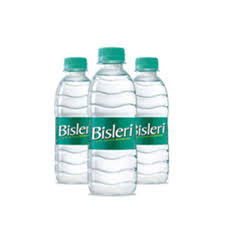Bisleri: (88, 118, 138, 147), (136, 116, 170, 148), (55, 119, 88, 146)
plastic: (94, 48, 136, 197), (132, 57, 174, 187), (53, 60, 91, 187)
